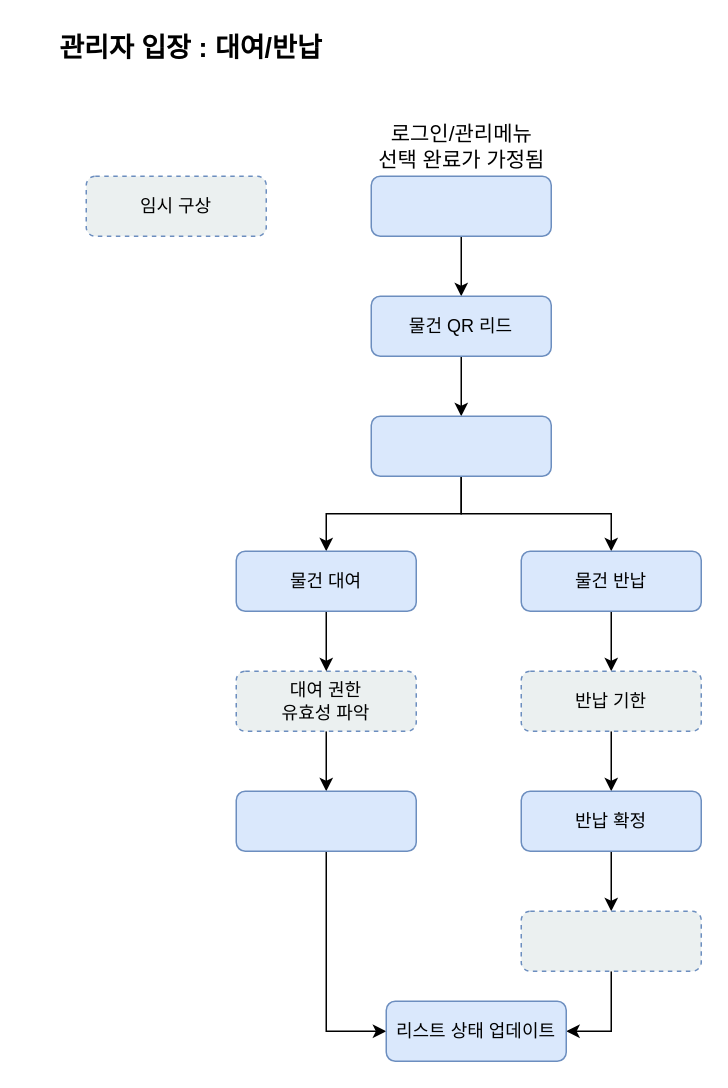
The diagram is 728 pixels wide and 1088 high, and some of its shapes have lost their labels. The centre of each missing label's shape, as x and y in pixels:
AI의 관리 대상 파악: point (610, 940)
대여 확정: point (325, 820)
대여/반납 관리: point (460, 205)
해당 물건의 대여/반납 판단: point (460, 445)
